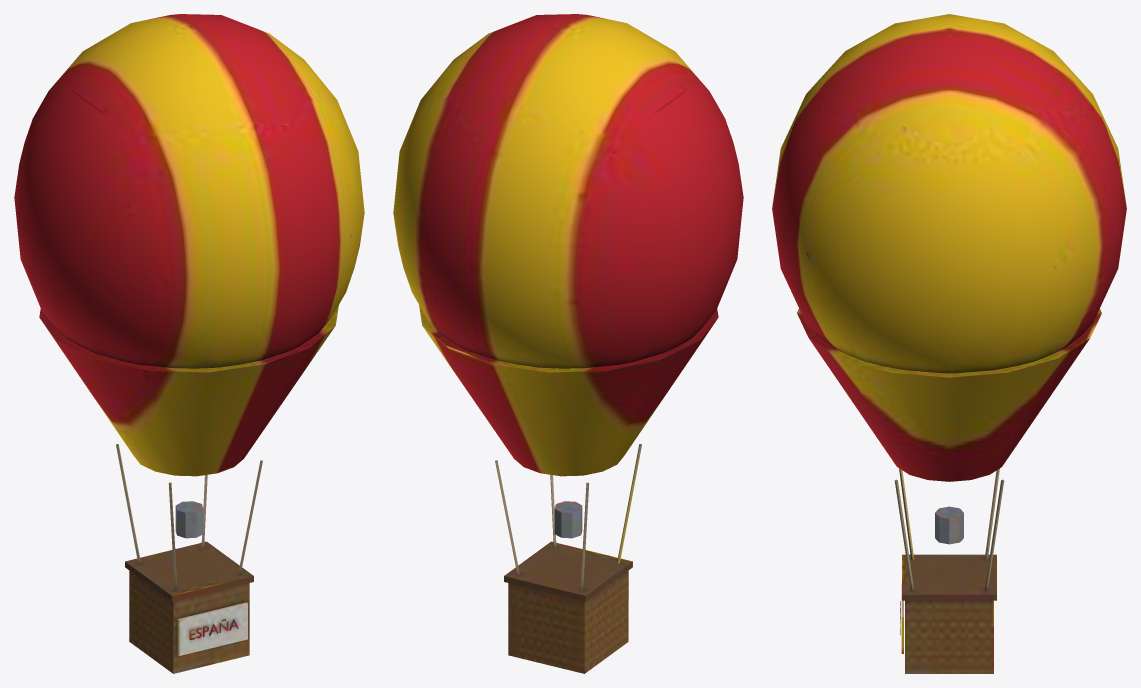
File: globo_espana.glb
3 views of the same model, side by side, from view 1: azimuth 30°, elevation 25°; view 2: azimuth 150°, elevation 25°; view 3: azimuth 270°, elevation 25° (orthographic).
Visible parts, largest first — view 1: globo_espana; view 2: globo_espana; view 3: globo_espana.
Boxes of the visible parts, box(x1,y1,x2,y2) form: globo_espana: box(14, 14, 364, 673); globo_espana: box(393, 14, 743, 673); globo_espana: box(772, 14, 1126, 673).
Size of the model in its own units: 4.4 by 8.57 by 4.4.
Materials: 1 (1 with a texture image).
